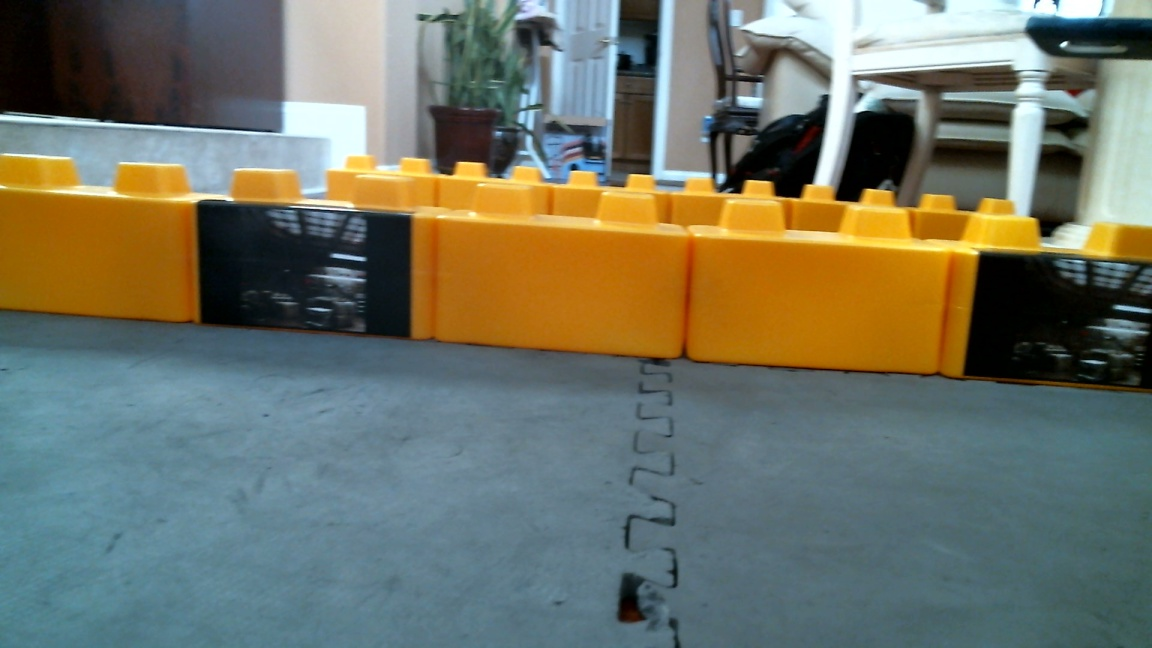skystone: (188, 165, 433, 342), (943, 210, 1152, 389)
stone: (687, 197, 947, 376), (429, 183, 689, 358), (1, 148, 195, 324)
